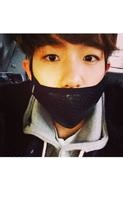face_mask: (34, 37, 105, 127)
